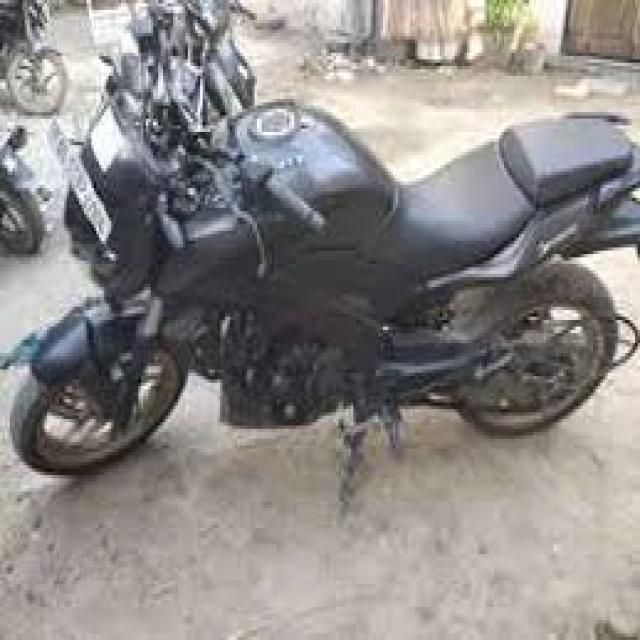bike: (25, 29, 618, 492)
